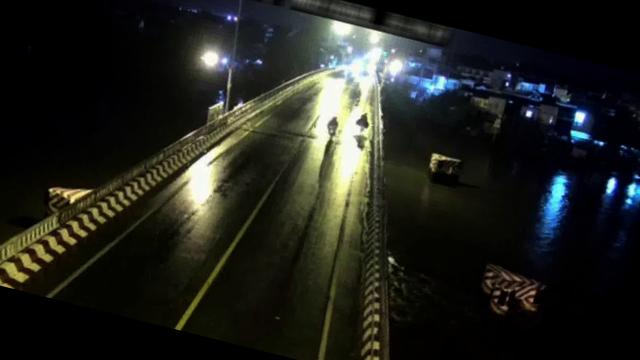Bike: (324, 114, 342, 139)
